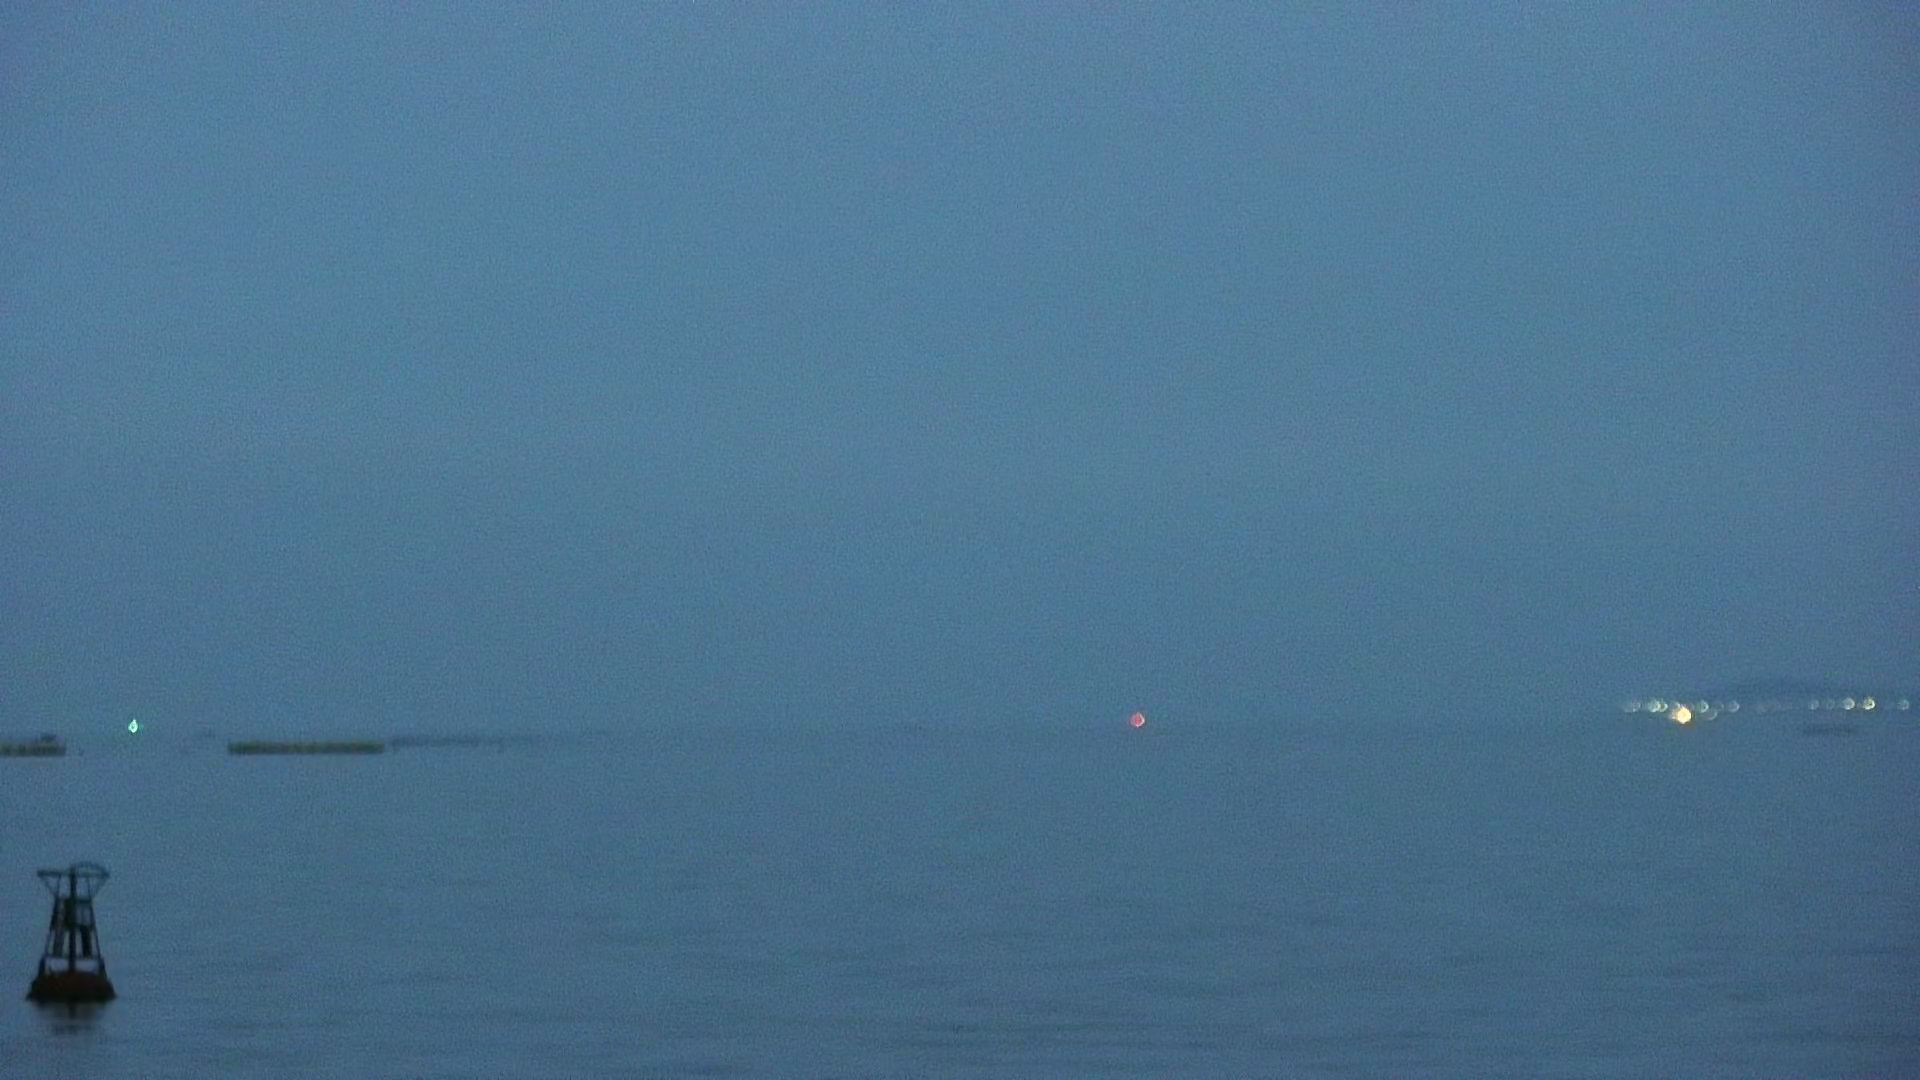buoy: (24, 856, 129, 1018)
